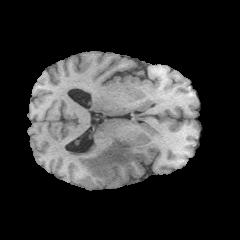glioma: (66, 137, 132, 179)
